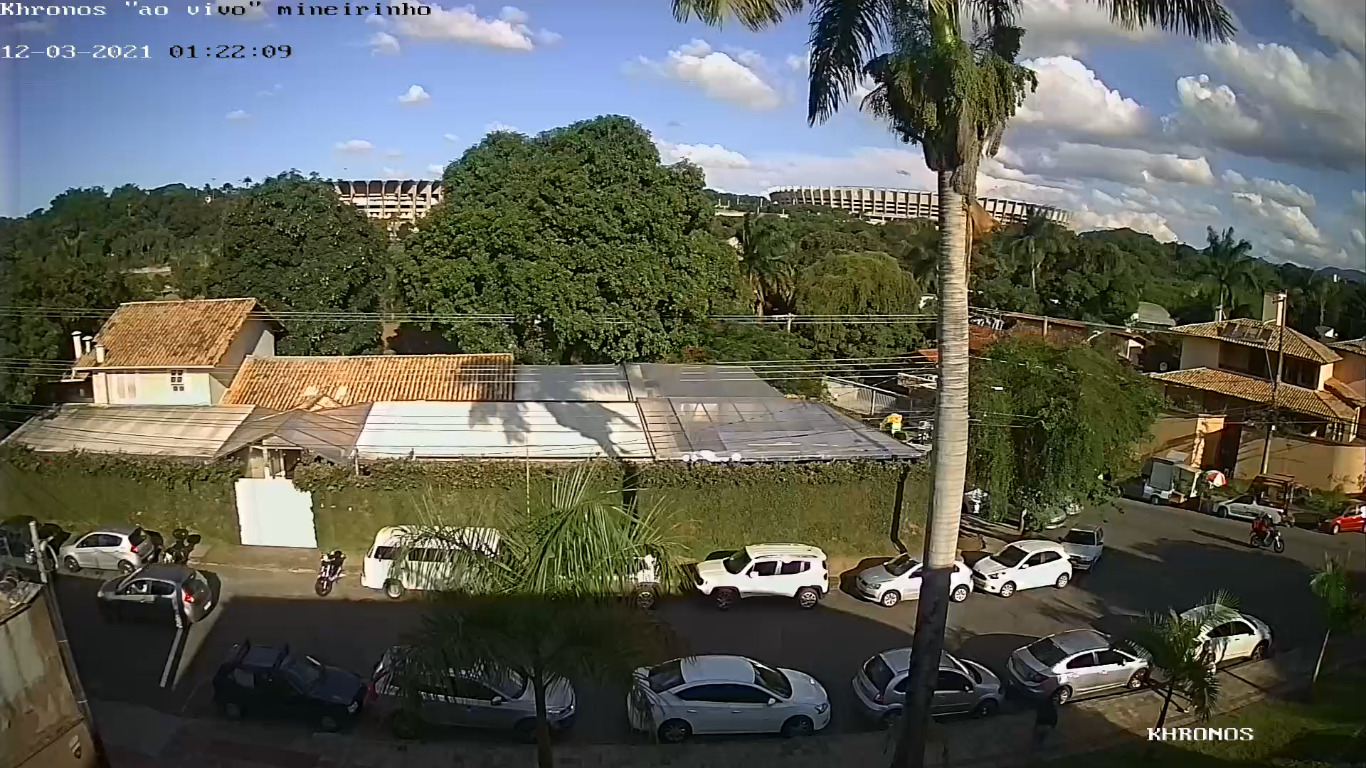car: (621, 653, 832, 741), (210, 640, 369, 733), (850, 645, 1007, 728), (1006, 626, 1156, 704), (690, 540, 832, 612), (1157, 599, 1276, 674), (97, 563, 214, 628), (852, 549, 976, 610), (971, 538, 1073, 598)
